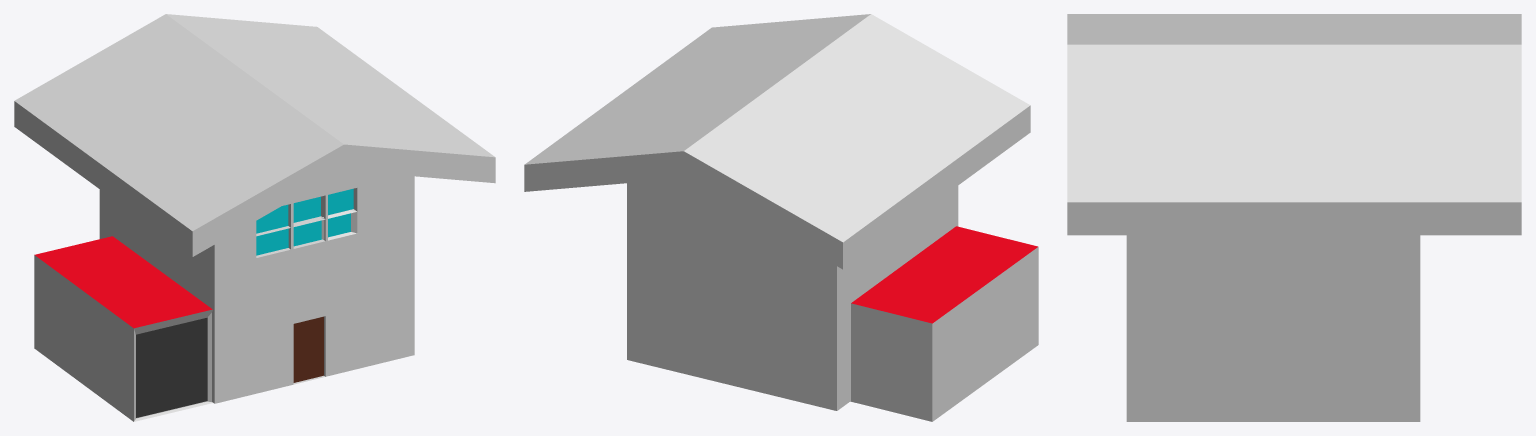
The model's file is houseModel.fbx.
The picture shows the model from 3 angles, left to right: view 1: azimuth 30°, elevation 25°; view 2: azimuth 150°, elevation 25°; view 3: azimuth 270°, elevation 25°; orthographic projection. The views are drawn at different scales.
Visible parts, largest first — view 1: Cube, Cube.002, Cube.001; view 2: Cube, Cube.002, Cube.001; view 3: Cube, Cube.002.
Boxes of the visible parts, x1,y1,x2,y2 form: Cube: [14, 14, 495, 256]; Cube.002: [99, 170, 414, 403]; Cube.001: [34, 236, 212, 421]; Cube: [524, 14, 1030, 269]; Cube.002: [627, 178, 958, 410]; Cube.001: [850, 226, 1038, 421]; Cube: [1067, 14, 1521, 235]; Cube.002: [1126, 235, 1420, 421].
Bounding box in the file's own units: 26256 × 18731 × 24106.
